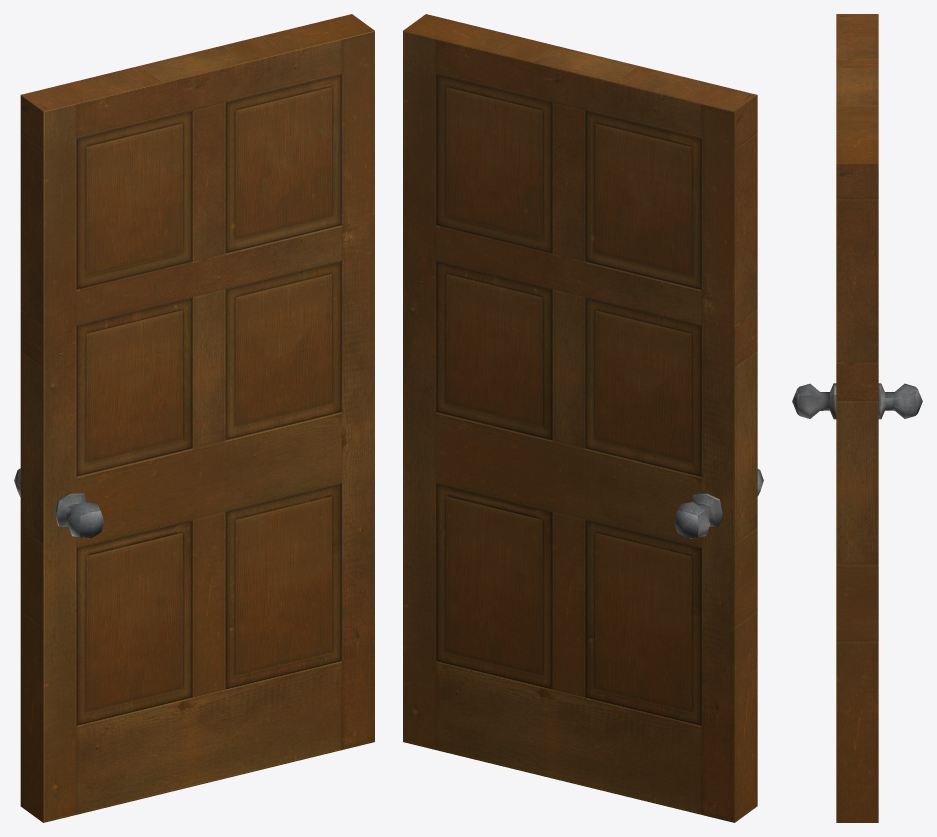
File: Door.fbx
3 renders of one model, left to right at view 1: azimuth 30°, elevation 25°; view 2: azimuth 150°, elevation 25°; view 3: azimuth 270°, elevation 25°, orthographic. The views are drawn at different scales.
Parts seen in each view (by area): view 1: door, pomo; view 2: door, pomo.001; view 3: door, pomo.001, pomo.
Part boxes in pixels (box(x1,y1,x2,y2)): door: box(20, 14, 374, 822); pomo: box(55, 493, 104, 538); door: box(403, 14, 757, 822); pomo.001: box(673, 493, 722, 538); door: box(836, 14, 878, 822); pomo.001: box(878, 383, 922, 419); pomo: box(792, 383, 836, 419).
Size of the model in its own units: 2 by 0.7374 by 4.1.
